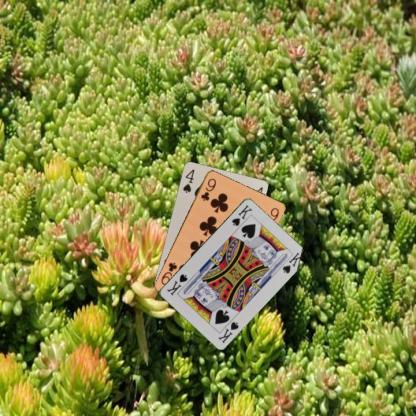4s: (180, 167, 196, 194)
9c: (198, 175, 217, 202)
Ks: (229, 202, 254, 227), (215, 319, 240, 344)
